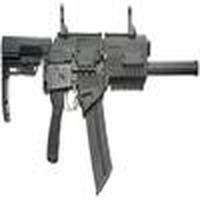gun: (2, 32, 196, 142)
